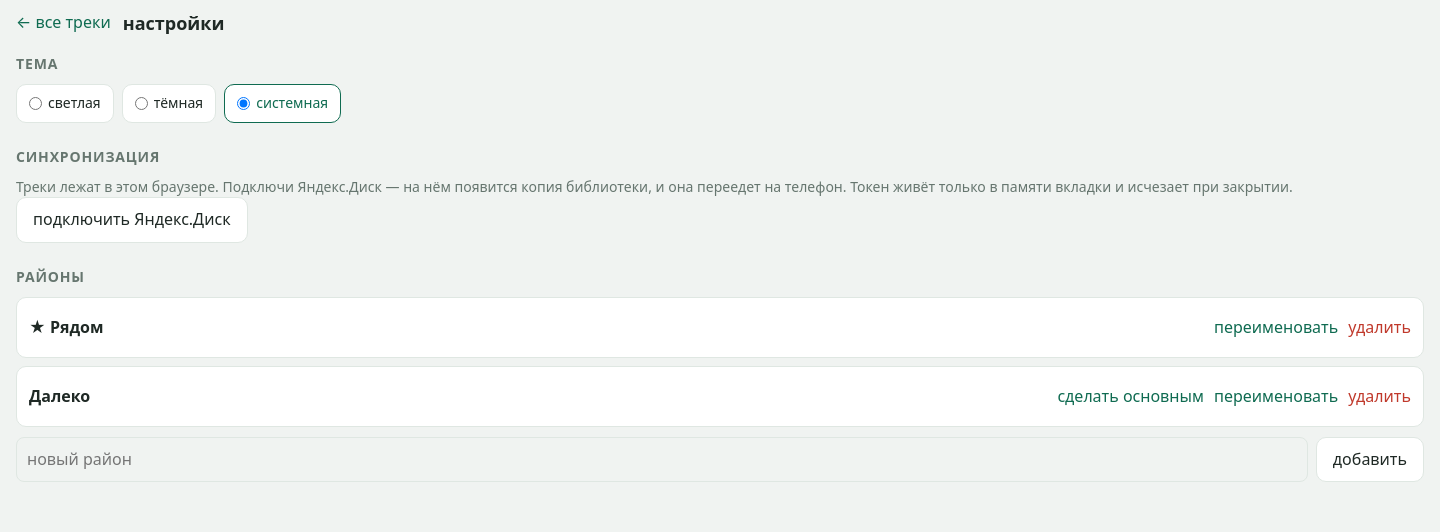
Test: ошибка переименования показана подсказкой
Expected: the text "Рядом" is shown, left=50, top=316, right=104, bottom=338
Click the button "переименовать" in the row of "Далеко".
click(1276, 397)  # box left=1214, top=377, right=1338, bottom=416
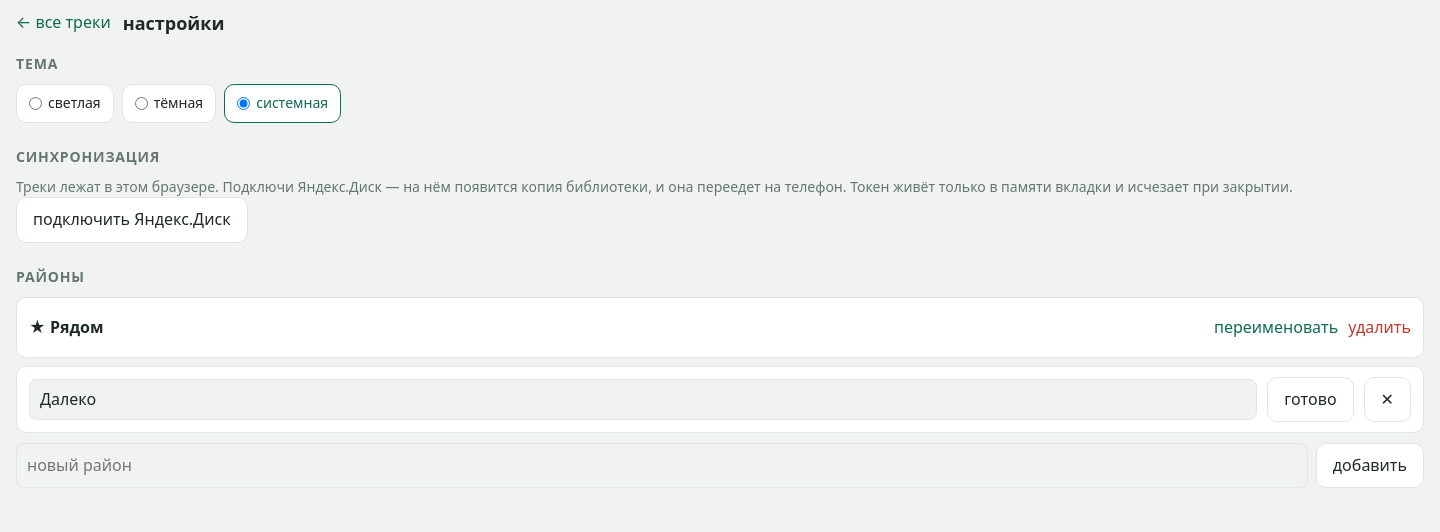
Replace the text in the field named "имя района" with "Совсем далеко" at [643, 400], box left=29, top=379, right=1257, bottom=420
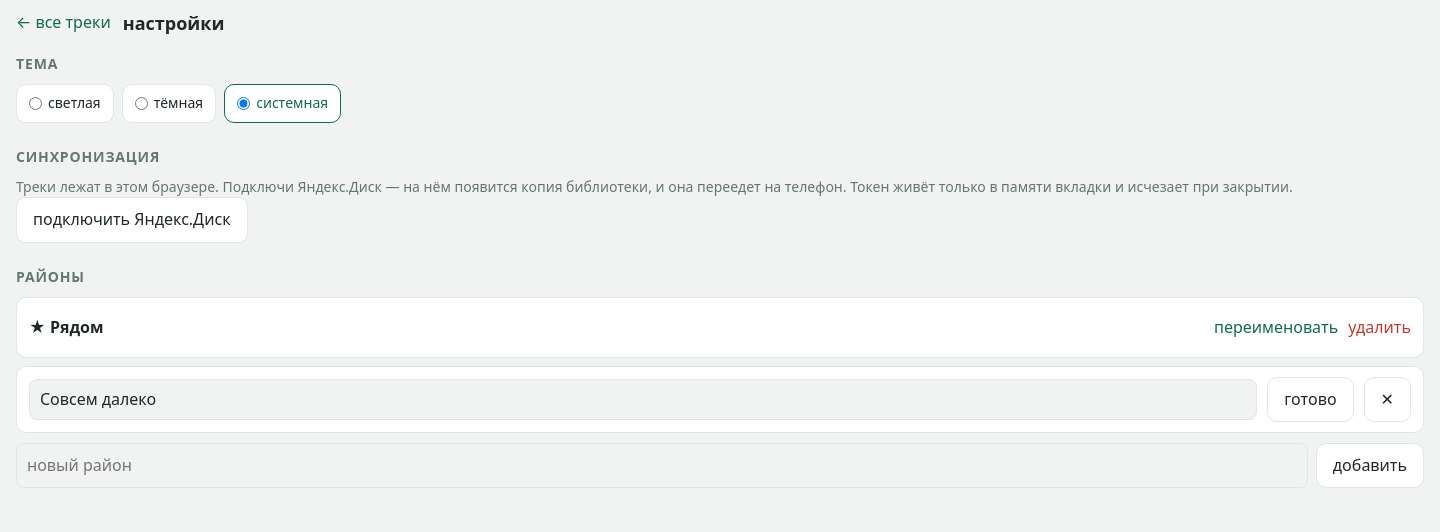
Click the button "готово".
click(1310, 400)  # box left=1267, top=377, right=1354, bottom=422
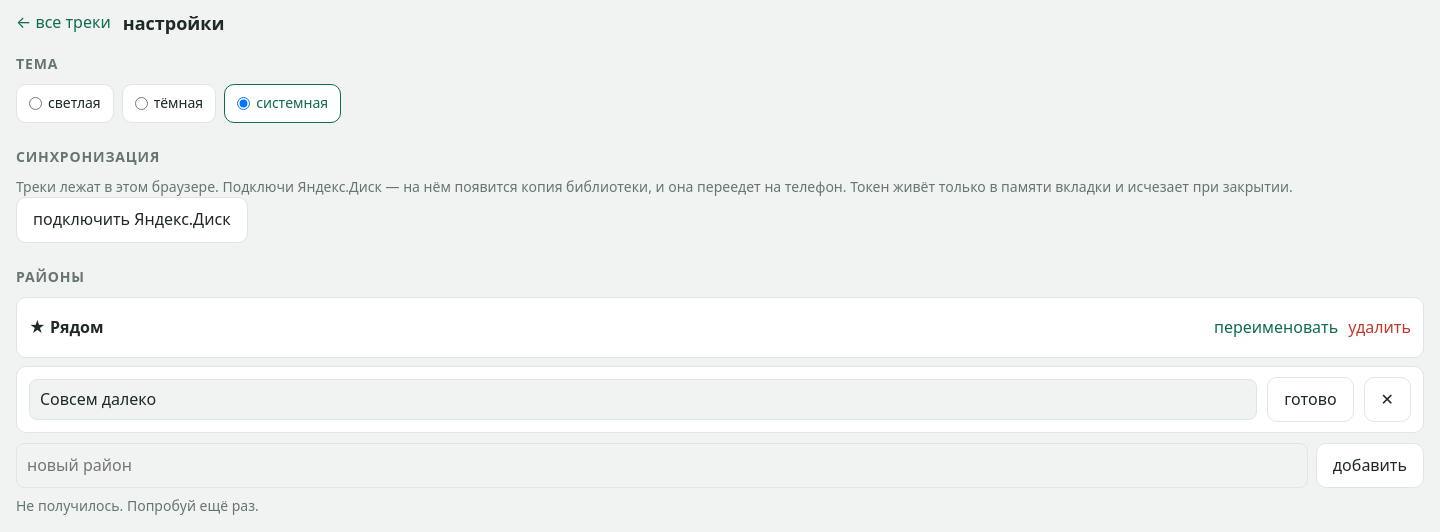
Expected: the text "Не получилось. Попробуй ещё раз." is shown, left=16, top=496, right=259, bottom=515
